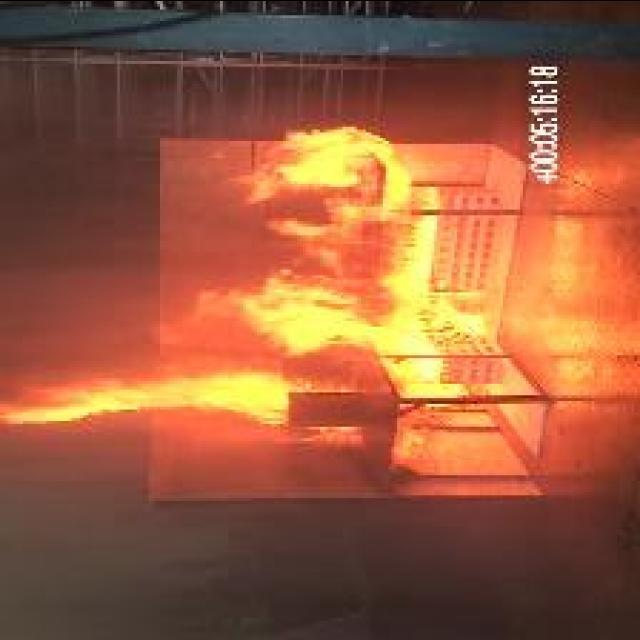Fire: (198, 125, 484, 398), (1, 371, 293, 426)
